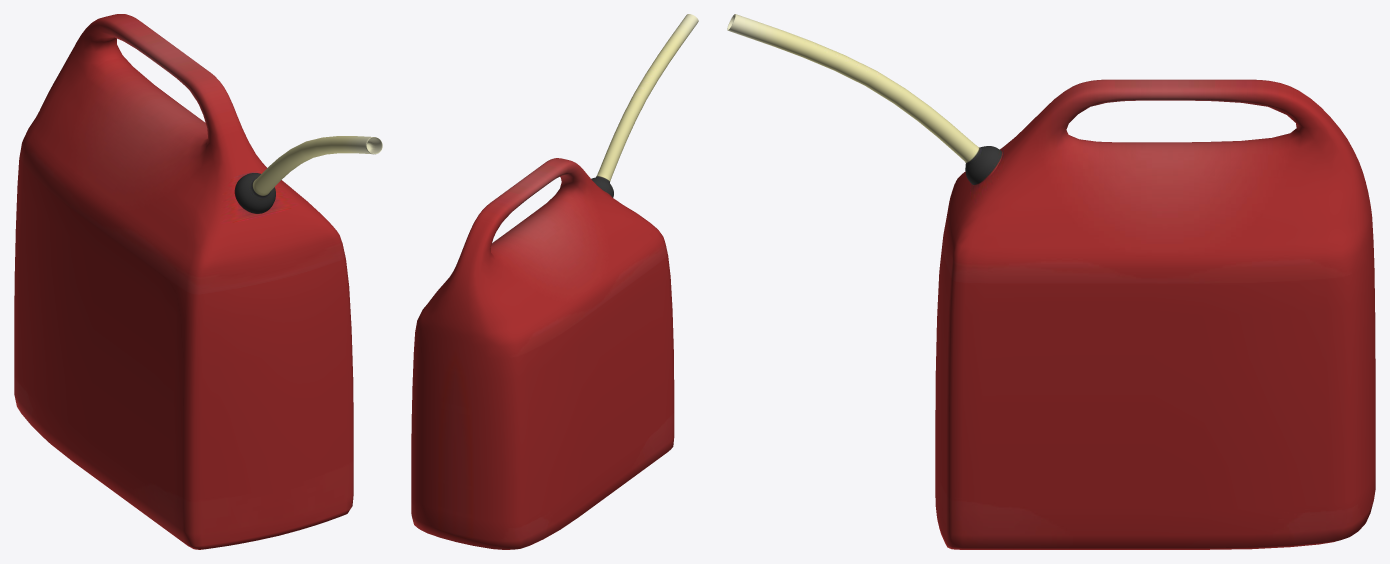
Rendered from gascan.fbx.
3 views of the same model, side by side, from view 1: azimuth 30°, elevation 25°; view 2: azimuth 150°, elevation 25°; view 3: azimuth 270°, elevation 25° (orthographic). The views are drawn at different scales.
Parts seen in each view (by area): view 1: polySurface2; view 2: polySurface2; view 3: polySurface2.
Part boxes in pixels (x1,y1,x2,y2): polySurface2: (14,14,382,549); polySurface2: (411,14,698,549); polySurface2: (727,14,1375,549).
Bounding box in the file's own units: 55.53 × 148 × 176.
Materials: 1 (1 with a texture image).
